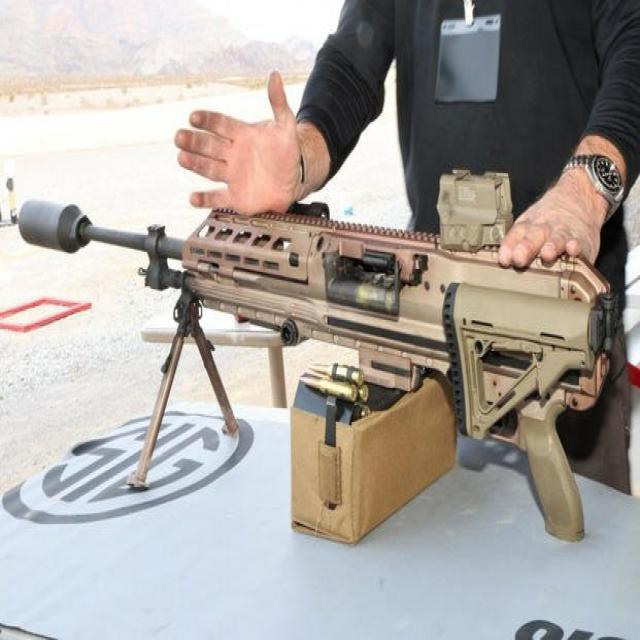weapon: (18, 195, 615, 546)
